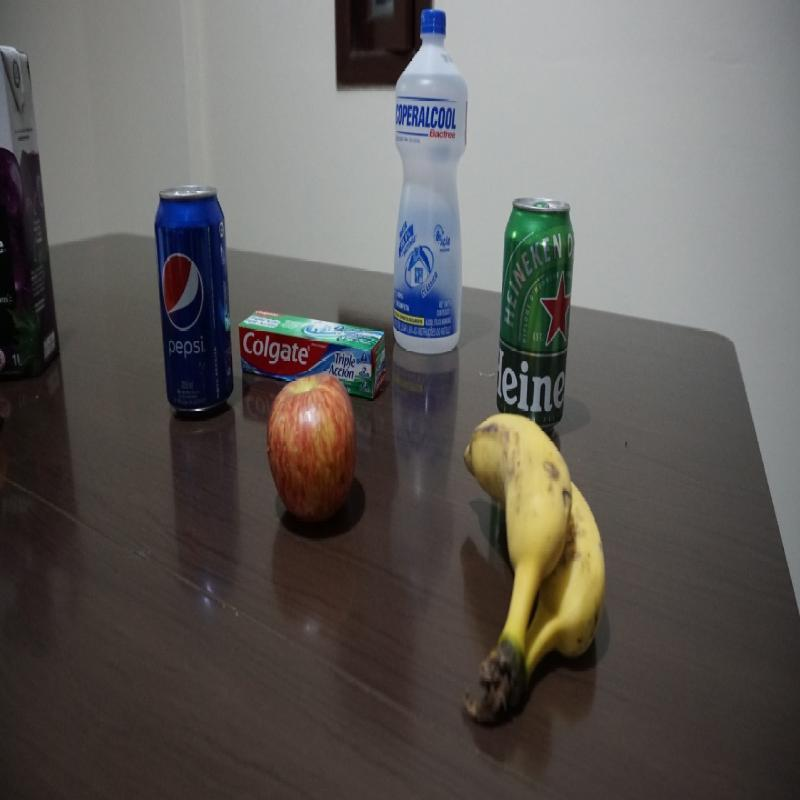Alcohol Bottle: (391, 8, 470, 354)
Apple: (268, 375, 357, 534)
Banana: (461, 411, 608, 728)
Beer can: (495, 195, 576, 431)
Soda can: (155, 183, 235, 418)
Toothpaste: (236, 308, 388, 404)
